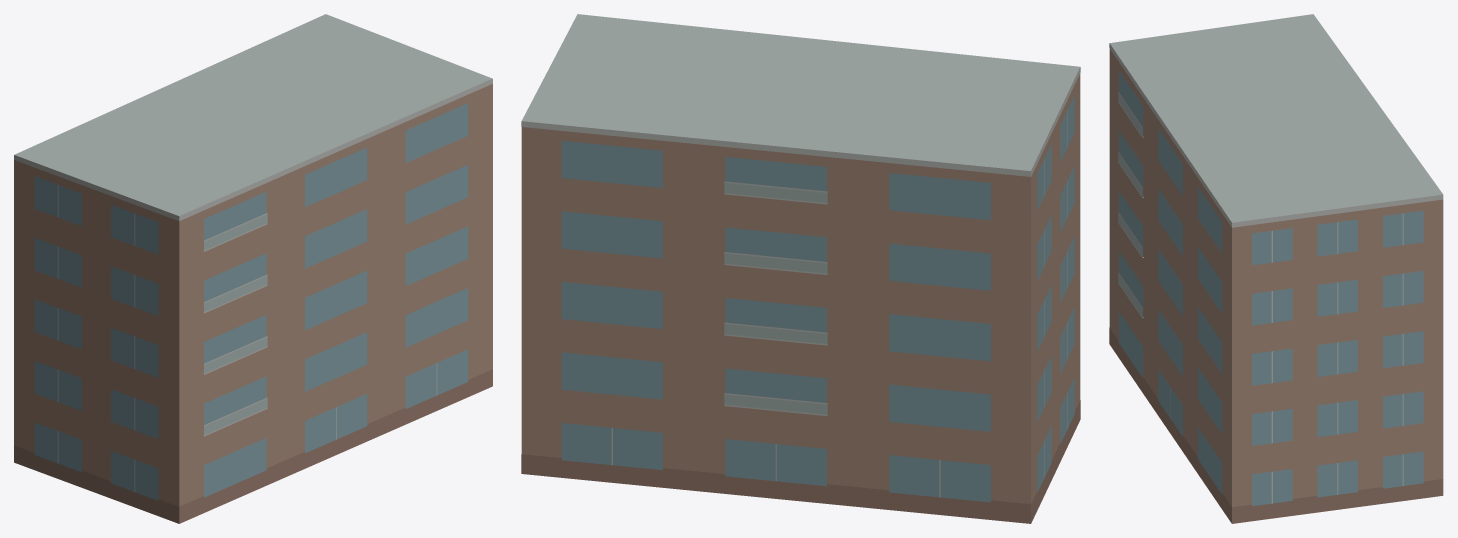
The model's file is survey-upis-33041046.glb.
3 renders of one model, left to right at view 1: azimuth 30°, elevation 25°; view 2: azimuth 150°, elevation 25°; view 3: azimuth 270°, elevation 25°, orthographic. The views are drawn at different scales.
Visible parts, largest first — view 1: survey-upis-33041046.tmp; view 2: survey-upis-33041046.tmp; view 3: survey-upis-33041046.tmp.
Part boxes in pixels (x1,y1,x2,y2): survey-upis-33041046.tmp: (14,14,492,523); survey-upis-33041046.tmp: (521,14,1080,523); survey-upis-33041046.tmp: (1109,14,1443,523).
Size of the model in its own units: 22.09 by 14.85 by 14.93.
